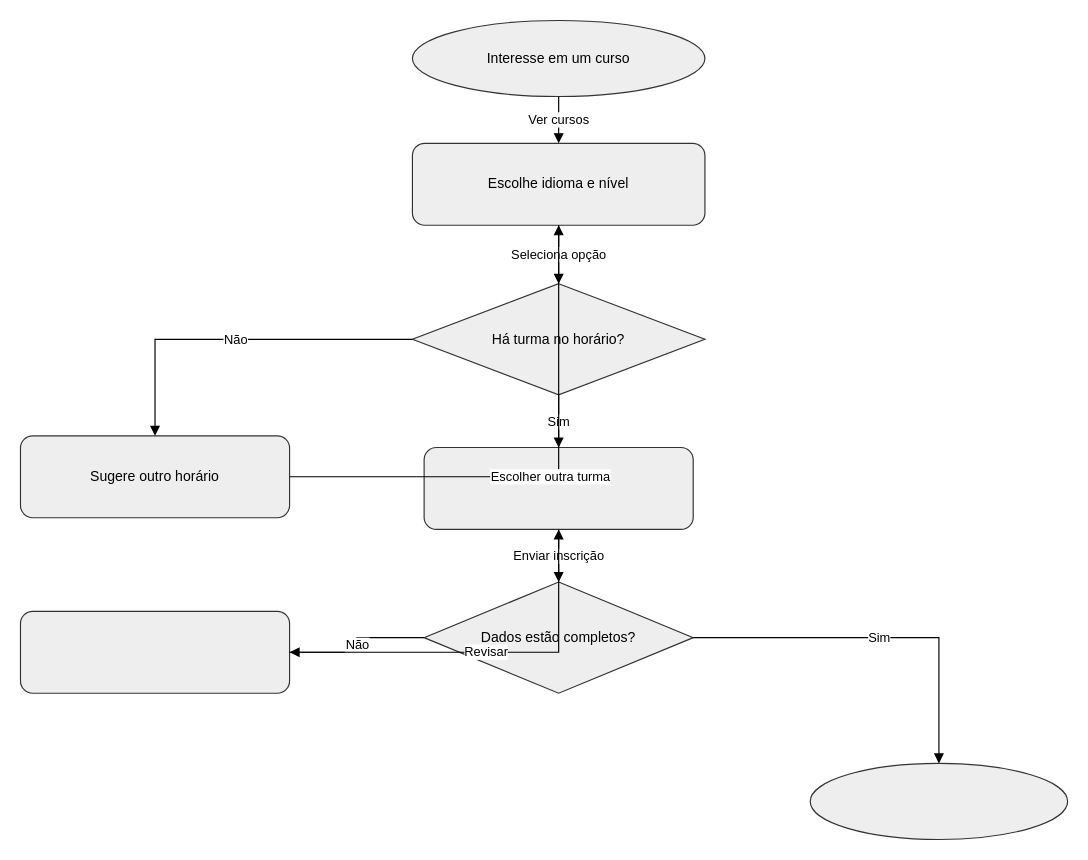
Image size: 1088x860. Some labels were removed from this diagram. Here are the shapes that lost their labels. From the top down, the centre of each, then its label:
At pixel 558 487: "Preenche formulário".
At pixel 154 651: "Corrige os dados".
At pixel 938 800: "Confirmação da aula".
